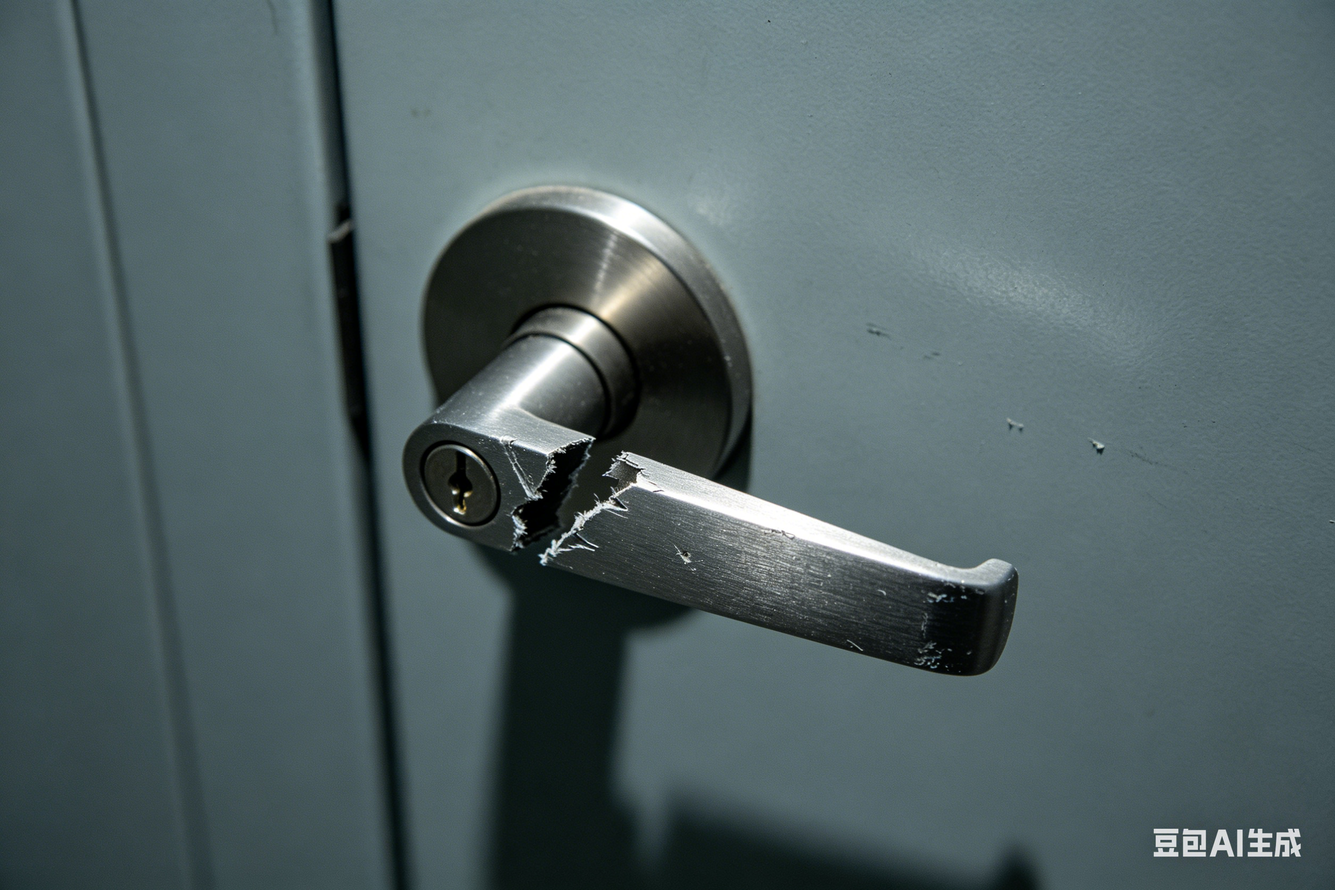BadLock: (483, 412, 651, 578)
